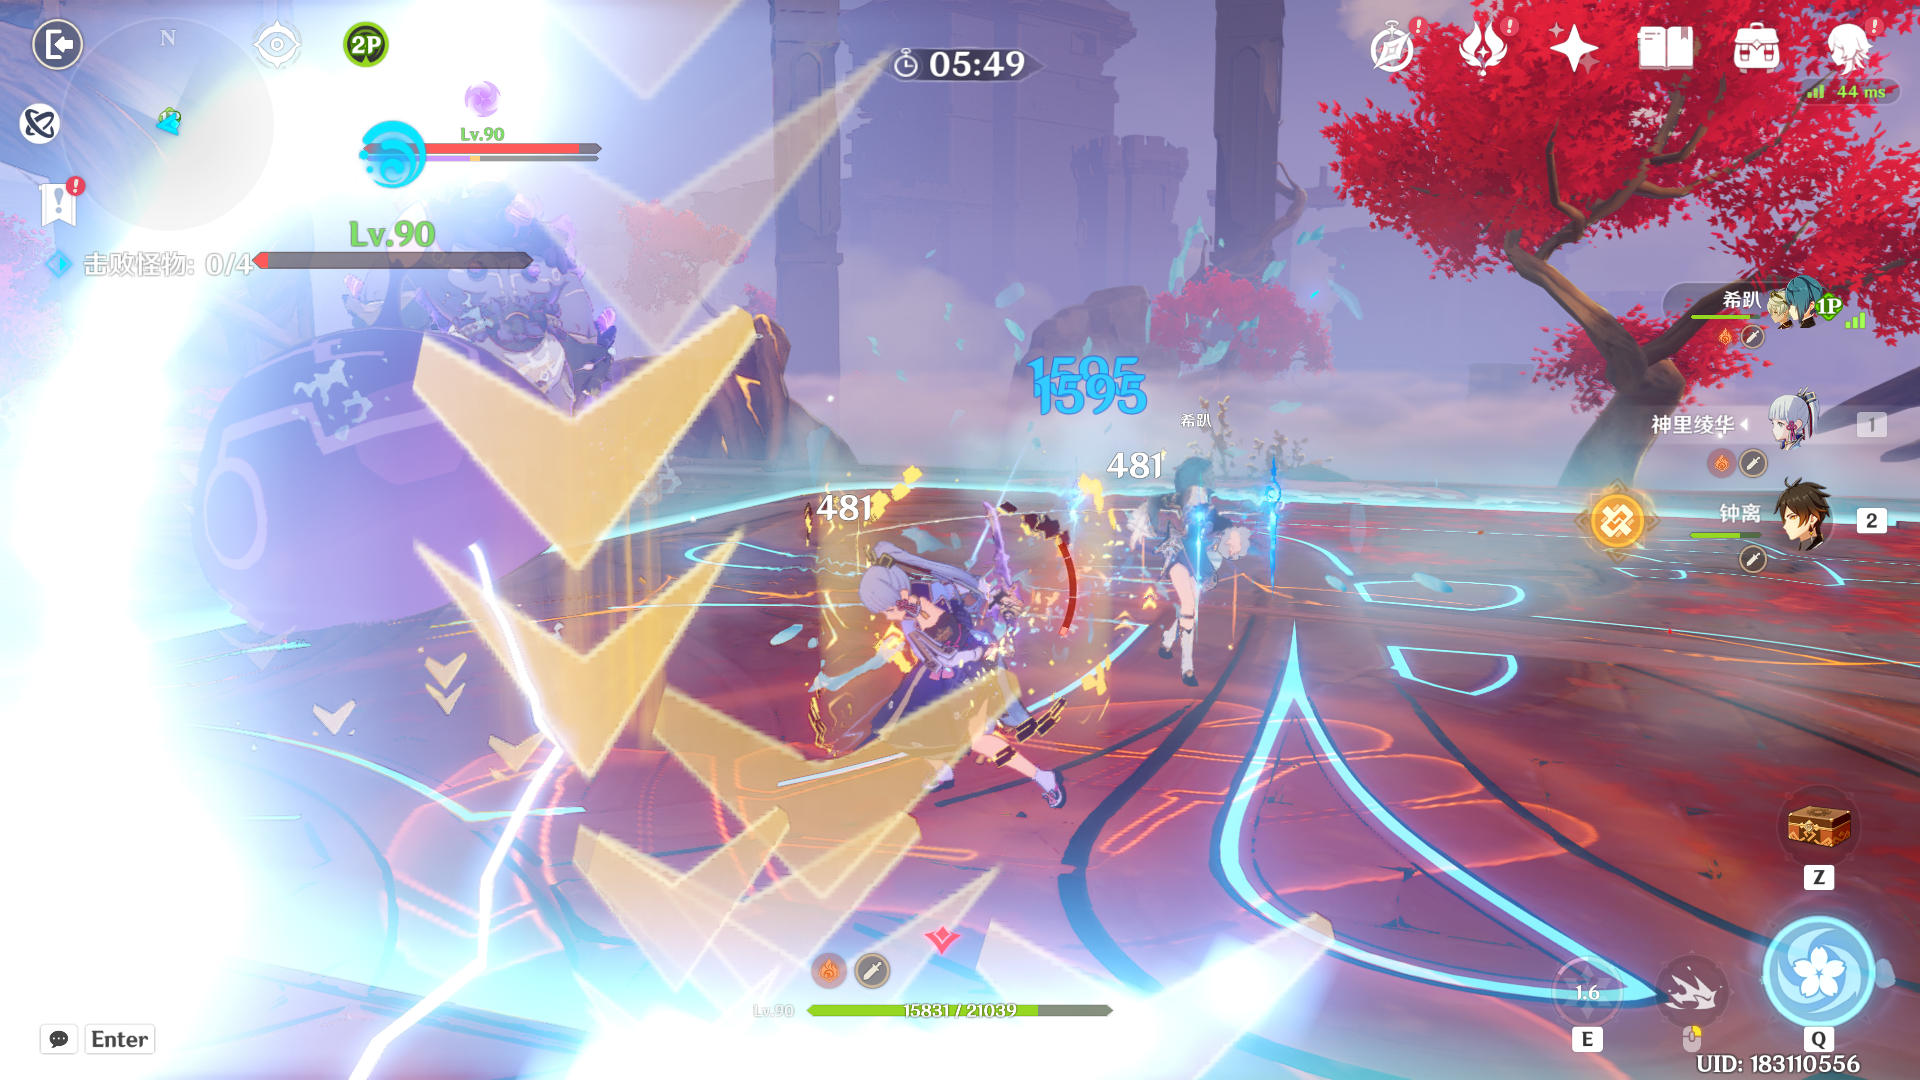character: (794, 513, 1098, 885), (1120, 436, 1270, 703)
slime: (171, 295, 582, 669)
